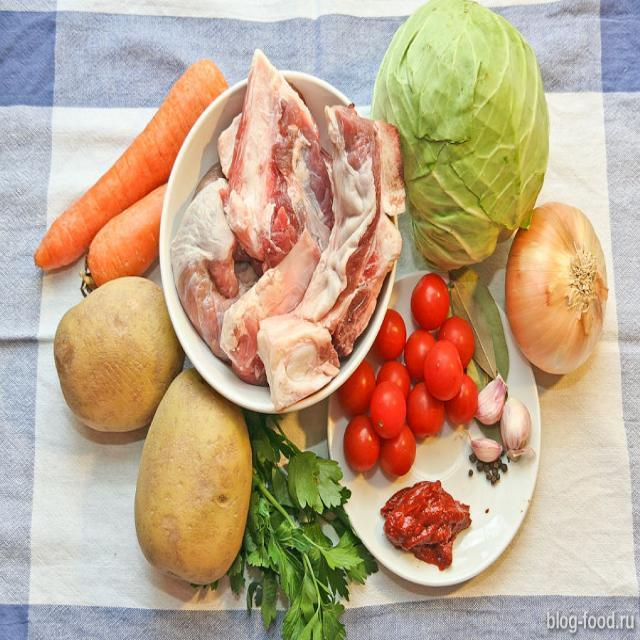cabbage: (364, 3, 548, 292)
carrot: (33, 51, 231, 271)
garlic: (499, 387, 532, 466), (472, 364, 509, 430)
onion: (501, 184, 613, 388)
potato: (142, 356, 252, 594), (57, 268, 184, 439)
